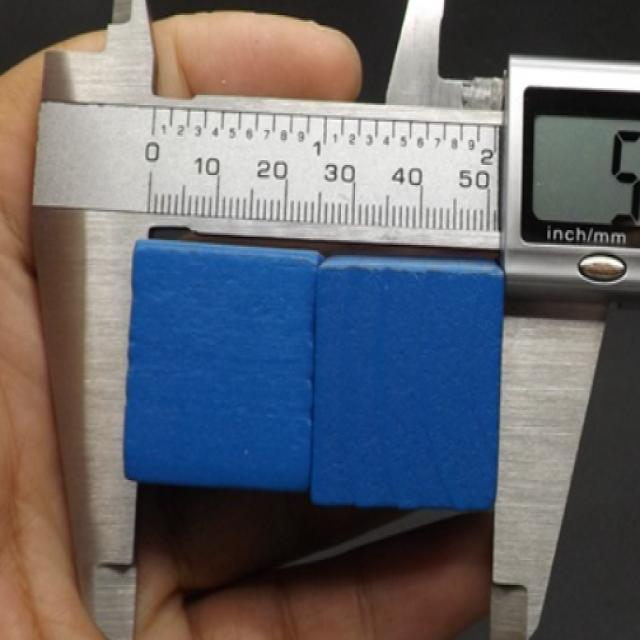bluecube: (122, 237, 323, 496), (312, 253, 505, 510)
